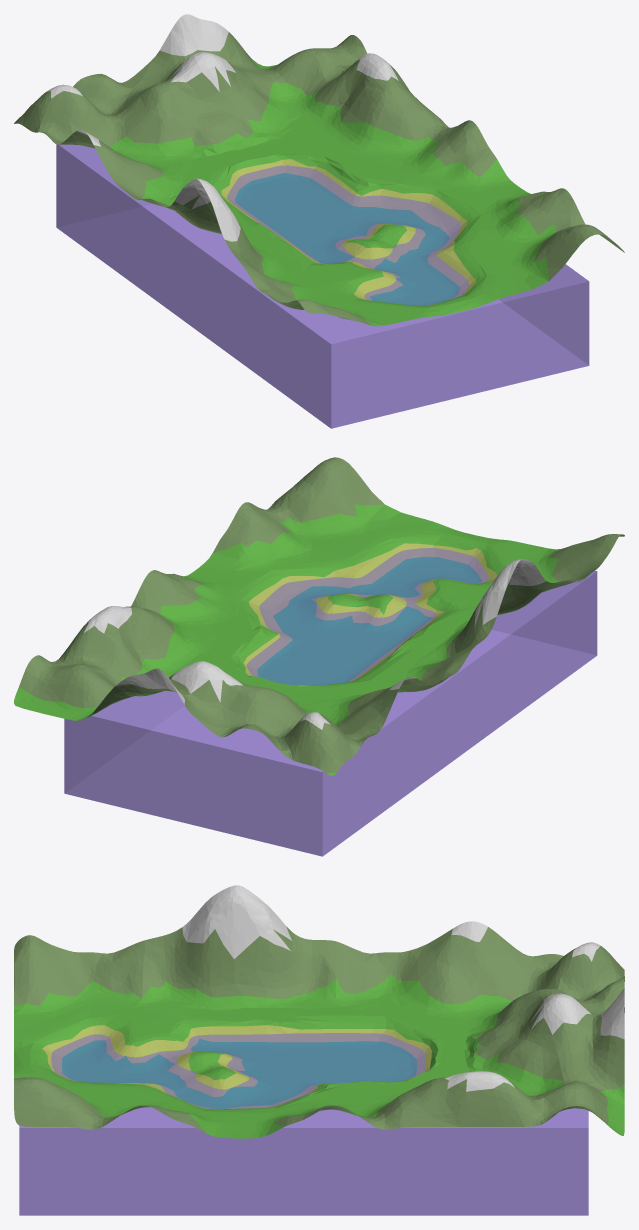
The model's file is LowPolyLandThree.fbx.
3 views of the same model, one above another, from view 1: azimuth 30°, elevation 25°; view 2: azimuth 150°, elevation 25°; view 3: azimuth 270°, elevation 25° (orthographic). The views are drawn at different scales.
Visible parts, largest first — view 1: Land, Water; view 2: Land, Water; view 3: Land, Water.
Boxes of the visible parts, x1,y1,x2,y2 form: Land: (14, 14, 624, 326); Water: (56, 144, 589, 428); Land: (14, 457, 624, 775); Water: (64, 548, 597, 856); Land: (14, 885, 624, 1138); Water: (19, 1033, 588, 1215).
Size of what is drawn, in the model's own units: 8 by 4.24 by 12.67.
